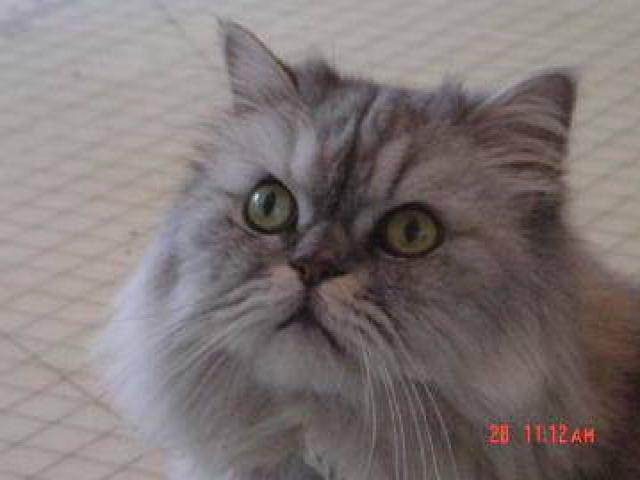cat: (75, 1, 637, 477)
